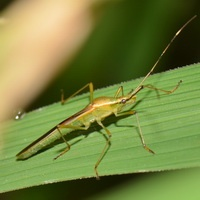insect: (16, 15, 196, 178)
